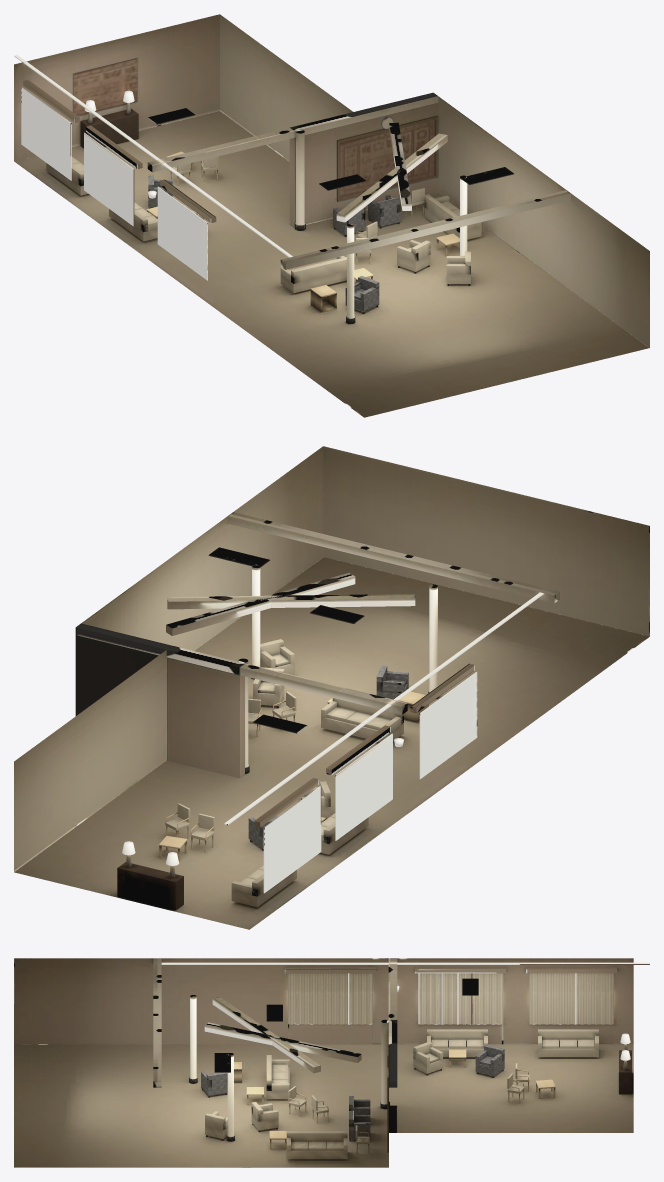
The model's file is albright-ss-america-mobile.glb.
3 renders of one model, top to bottom at view 1: azimuth 30°, elevation 25°; view 2: azimuth 150°, elevation 25°; view 3: azimuth 270°, elevation 25°, orthographic. The views are drawn at different scales.
Parts seen in each view (by area): view 1: floor, plain_walls, panelled_walls, ceiling_beams, daylight_windows, artifact_tapestry, back_panel, artifact_columns, pelmets, lamps_console, artifact_sofa, daylight_trough (+10 smaller); view 2: floor, plain_walls, ceiling_beams, daylight_windows, panelled_walls, lamps_console, artifact_sofa, pelmets, artifact_columns, daylight_trough, ceiling_vents, sofa_b2 (+4 smaller); view 3: floor, panelled_walls, artifact_window_curtains, ceiling_beams, pelmets, artifact_columns, sofa_b2, sofa_r, daylight_trough, sofa_b1, artifact_sofa, ceiling_vents (+8 smaller).
Boxes of the visible parts, bbox=[...] form: floor: bbox=[14, 111, 649, 417]; plain_walls: bbox=[220, 14, 649, 347]; panelled_walls: bbox=[14, 14, 437, 227]; ceiling_beams: bbox=[147, 92, 571, 269]; daylight_windows: bbox=[21, 87, 207, 280]; artifact_tapestry: bbox=[340, 119, 435, 198]; back_panel: bbox=[73, 58, 137, 115]; artifact_columns: bbox=[295, 130, 467, 323]; pelmets: bbox=[23, 79, 216, 222]; lamps_console: bbox=[80, 90, 156, 198]; artifact_sofa: bbox=[280, 256, 346, 293]; daylight_trough: bbox=[14, 55, 292, 257]; floor: bbox=[14, 557, 649, 929]; plain_walls: bbox=[14, 446, 649, 871]; ceiling_beams: bbox=[75, 512, 559, 714]; daylight_windows: bbox=[263, 672, 477, 893]; panelled_walls: bbox=[75, 635, 244, 778]; lamps_console: bbox=[117, 738, 403, 910]; artifact_sofa: bbox=[321, 698, 403, 741]; pelmets: bbox=[254, 663, 474, 827]; artifact_columns: bbox=[238, 564, 438, 773]; daylight_trough: bbox=[224, 592, 543, 825]; ceiling_vents: bbox=[208, 547, 364, 733]; sofa_b2: bbox=[231, 865, 296, 907]; floor: bbox=[14, 1044, 633, 1167]; panelled_walls: bbox=[14, 958, 633, 1044]; artifact_window_curtains: bbox=[288, 973, 613, 1024]; ceiling_beams: bbox=[153, 958, 397, 1087]; pelmets: bbox=[284, 967, 617, 973]; artifact_columns: bbox=[189, 995, 389, 1141]; sofa_b2: bbox=[538, 1029, 598, 1057]; sofa_r: bbox=[287, 1131, 347, 1159]; daylight_trough: bbox=[161, 962, 649, 964]; sofa_b1: bbox=[427, 1029, 487, 1057]; artifact_sofa: bbox=[266, 1055, 289, 1099]; ceiling_vents: bbox=[214, 978, 478, 1072].
Size of the model in its own units: 9.04 by 2.9 by 19.5.
3 materials, 2 textured.
